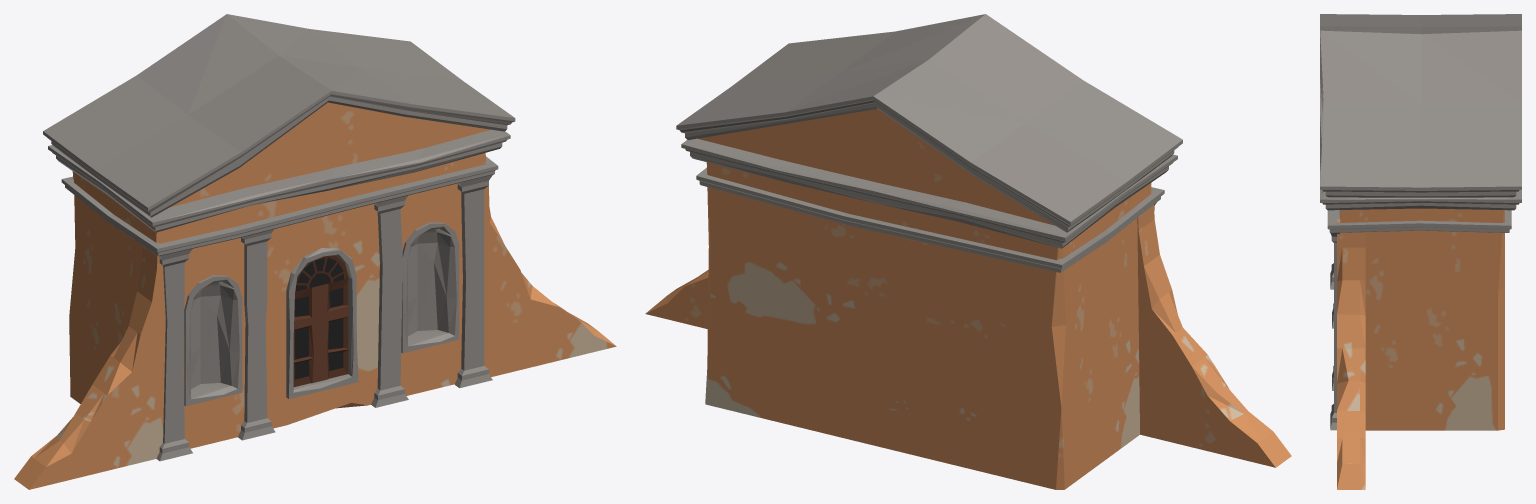
Rendered from SM_Bld_Cuba_Hall_Front_01.glb.
3 views of the same model, side by side, from view 1: azimuth 30°, elevation 25°; view 2: azimuth 150°, elevation 25°; view 3: azimuth 270°, elevation 25° (orthographic). The views are drawn at different scales.
Parts seen in each view (by area): view 1: SM_Bld_Cuba_Hall_Front_01_part00; view 2: SM_Bld_Cuba_Hall_Front_01_part00; view 3: SM_Bld_Cuba_Hall_Front_01_part00.
Boxes of the visible parts, x1,y1,x2,y2 form: SM_Bld_Cuba_Hall_Front_01_part00: (14, 14, 616, 489); SM_Bld_Cuba_Hall_Front_01_part00: (645, 14, 1291, 489); SM_Bld_Cuba_Hall_Front_01_part00: (1320, 14, 1521, 489).
Size of the model in its own units: 10.88 by 5.9 by 3.36.
1 material, 1 textured.
